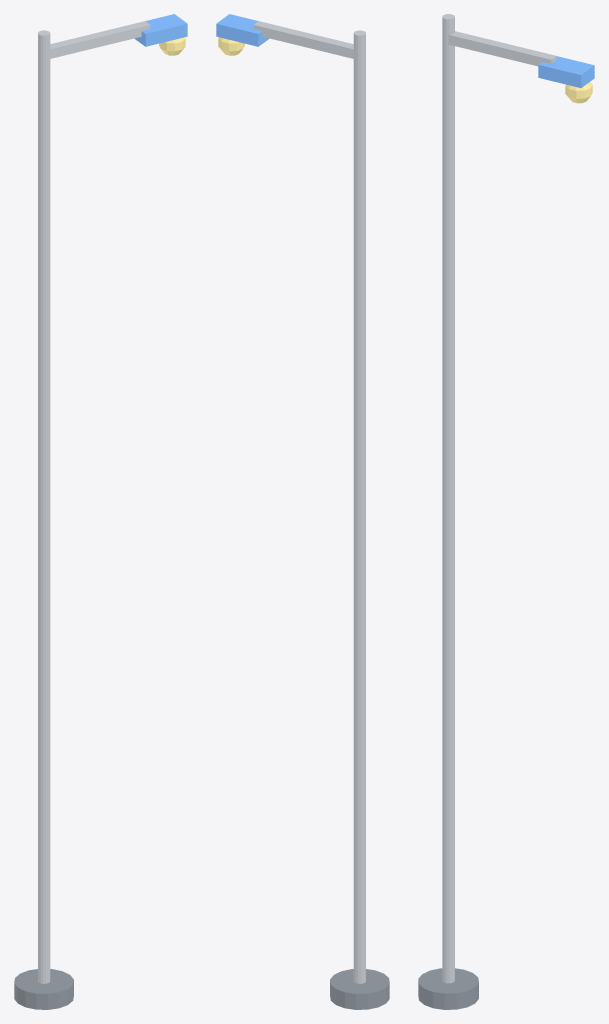
Rendered from den-led-12m.gltf.
3 views of the same model, side by side, from view 1: azimuth 30°, elevation 25°; view 2: azimuth 150°, elevation 25°; view 3: azimuth 330°, elevation 25° (orthographic).
Parts seen in each view (by area): view 1: pole, base, arm, lampHead; view 2: pole, base, arm, lampHead; view 3: pole, base, arm, lampHead, lampGlow.
Boxes of the visible parts, left/top/right/bottom form: pole: left=38, top=30, right=50, bottom=983; base: left=14, top=969, right=73, bottom=1009; arm: left=49, top=21, right=150, bottom=58; lampHead: left=134, top=14, right=187, bottom=46; pole: left=353, top=30, right=365, bottom=983; base: left=330, top=969, right=389, bottom=1009; arm: left=253, top=21, right=354, bottom=58; lampHead: left=216, top=14, right=269, bottom=46; pole: left=442, top=14, right=454, bottom=983; base: left=418, top=968, right=478, bottom=1009; arm: left=448, top=31, right=556, bottom=66; lampHead: left=538, top=56, right=594, bottom=87; lampGlow: left=565, top=82, right=592, bottom=103.
Size of the model in its own units: 2.16 by 12 by 0.68.
